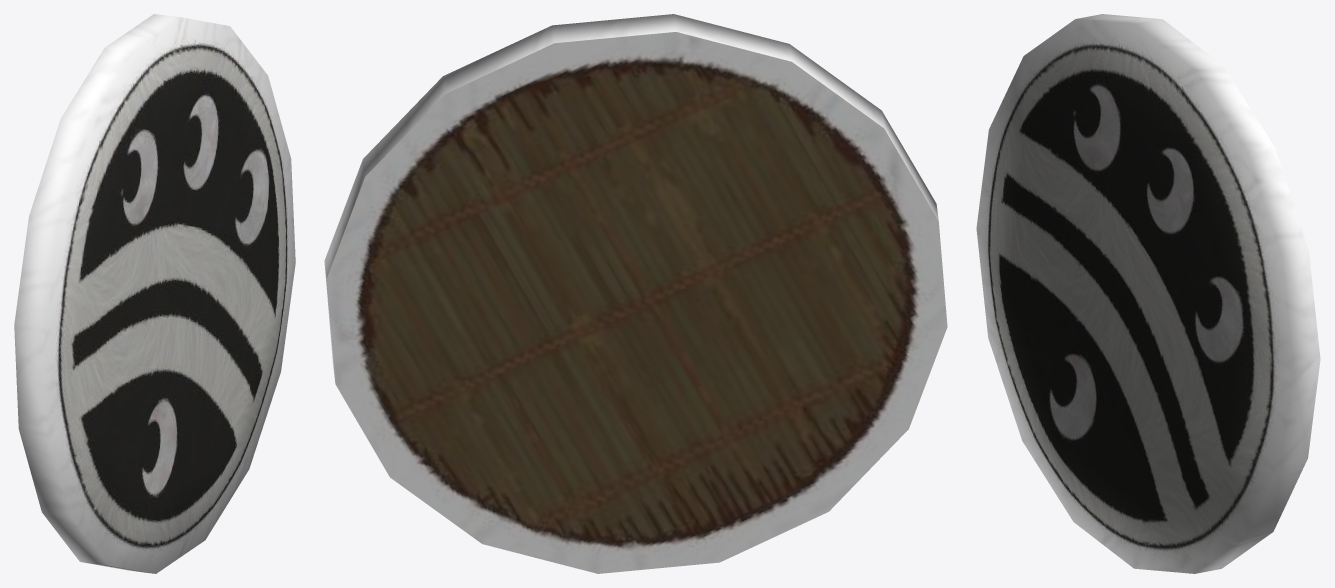
The model's file is rider-shield-slice-coppershields.glb.
3 renders of one model, left to right at view 1: azimuth 30°, elevation 25°; view 2: azimuth 150°, elevation 25°; view 3: azimuth 270°, elevation 25°, orthographic. The views are drawn at different scales.
Size of the model in its own units: 0.355 by 0.4139 by 0.2521.
1 material, 1 textured.
